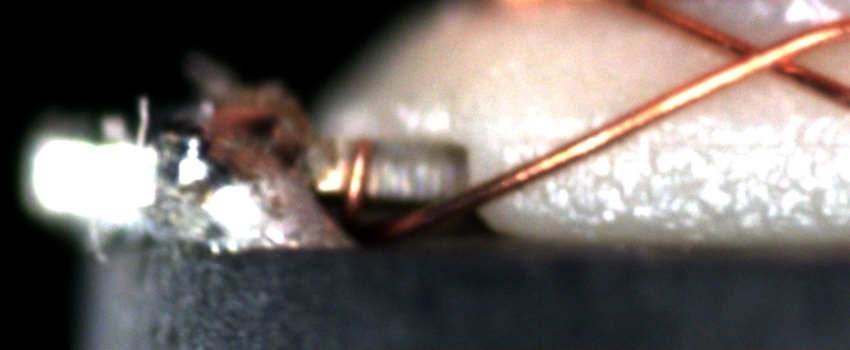CL: (712, 27, 815, 87)
DL: (518, 111, 849, 175)
TE: (190, 89, 383, 235)
